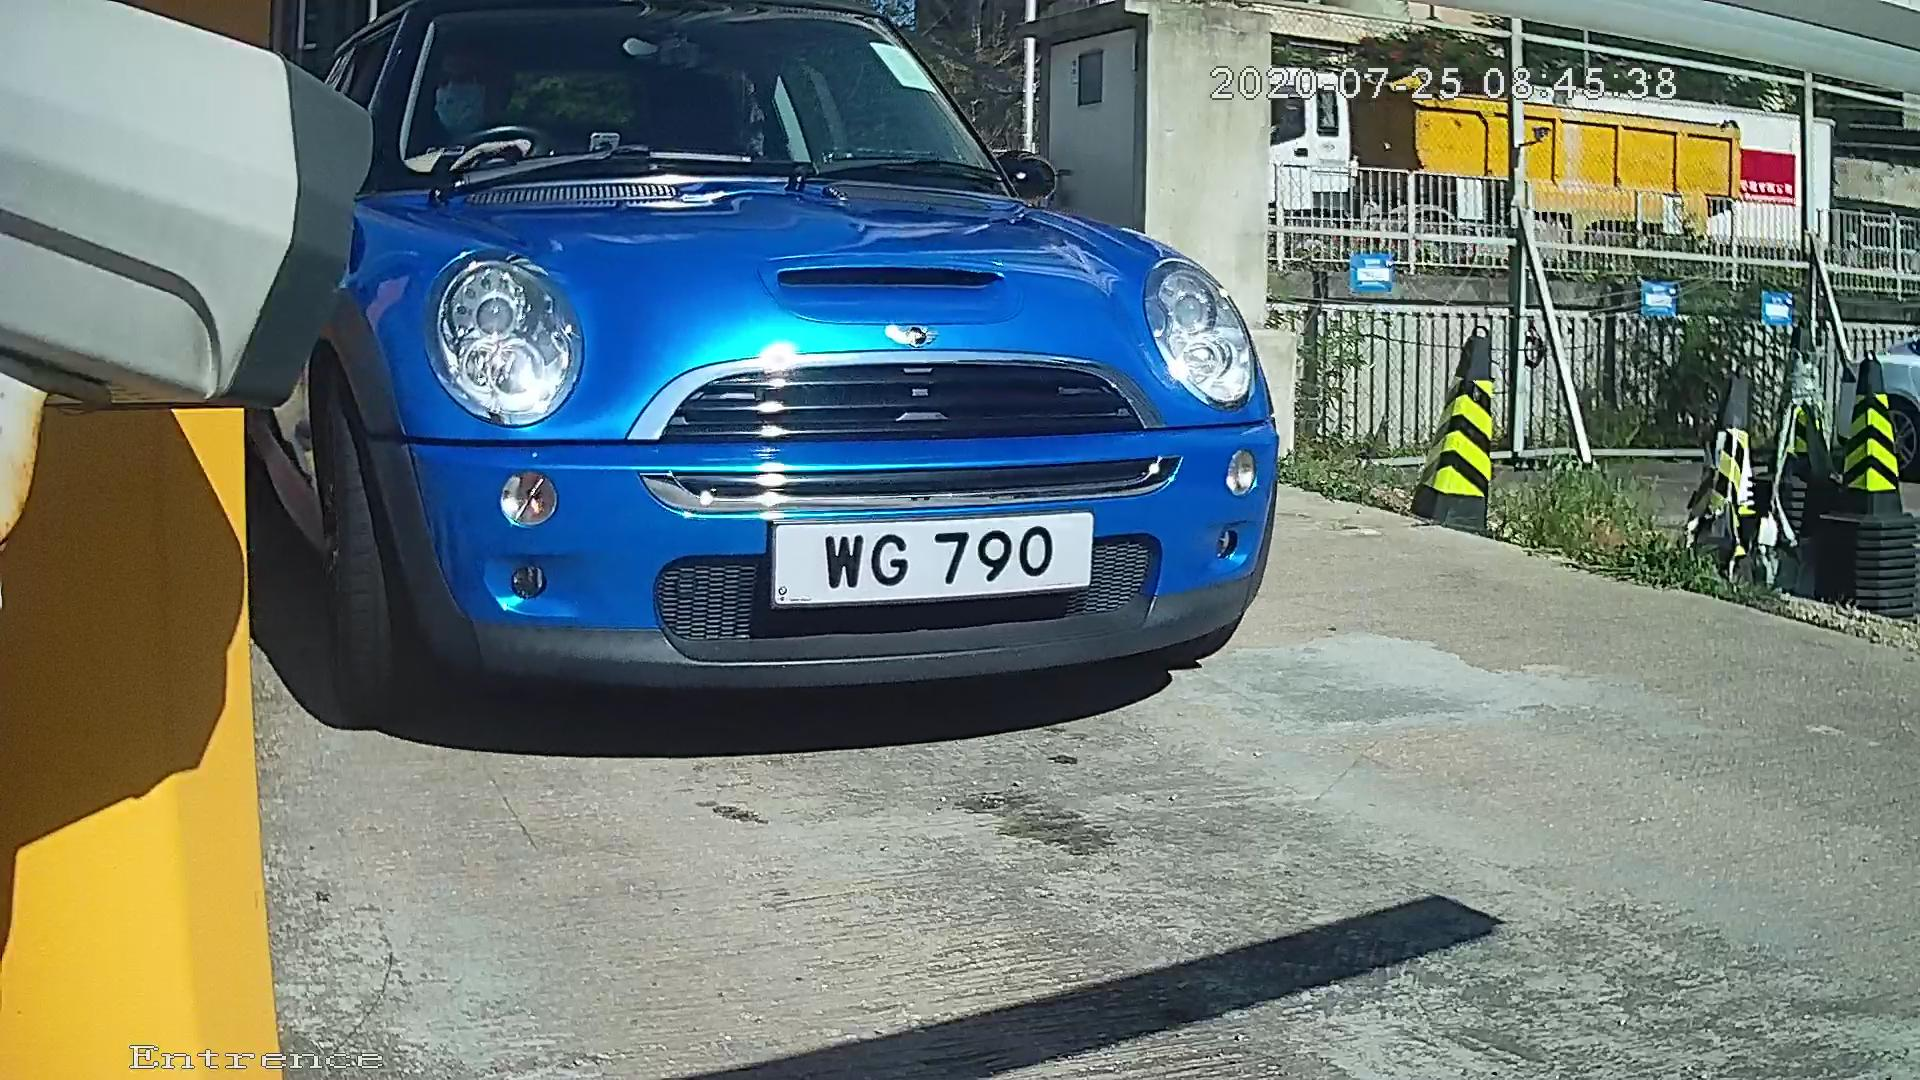License Plate: (738, 502, 1123, 618)
